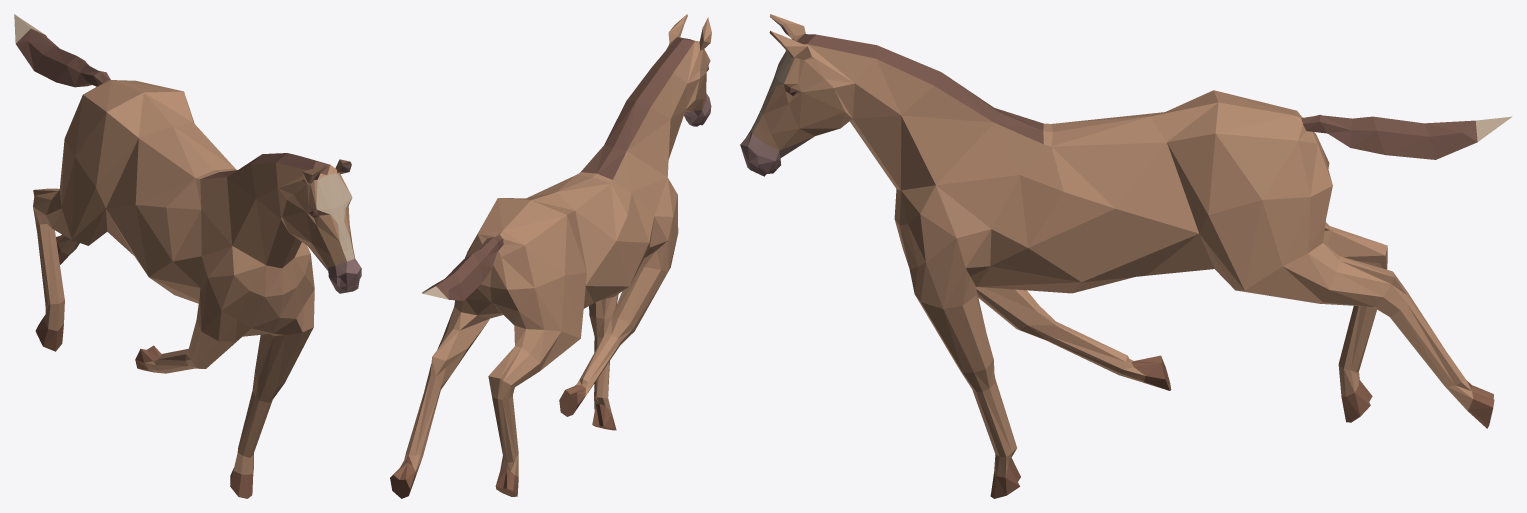
Rendered from Horse.glb.
The picture shows the model from 3 angles, left to right: view 1: azimuth 30°, elevation 25°; view 2: azimuth 150°, elevation 25°; view 3: azimuth 270°, elevation 25°; orthographic projection. The views are drawn at different scales.
Visible parts, largest first — view 1: mesh_0; view 2: mesh_0; view 3: mesh_0.
Boxes of the visible parts, x1,y1,x2,y2 form: mesh_0: [14, 14, 361, 498]; mesh_0: [390, 14, 711, 498]; mesh_0: [740, 14, 1512, 498].
Size of the model in its own units: 65.46 by 199 by 294.
